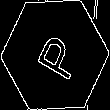P_NW: (27, 27, 83, 83)
